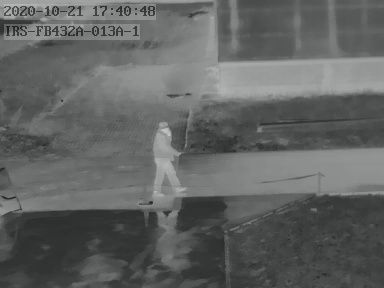person: (149, 121, 183, 195)
